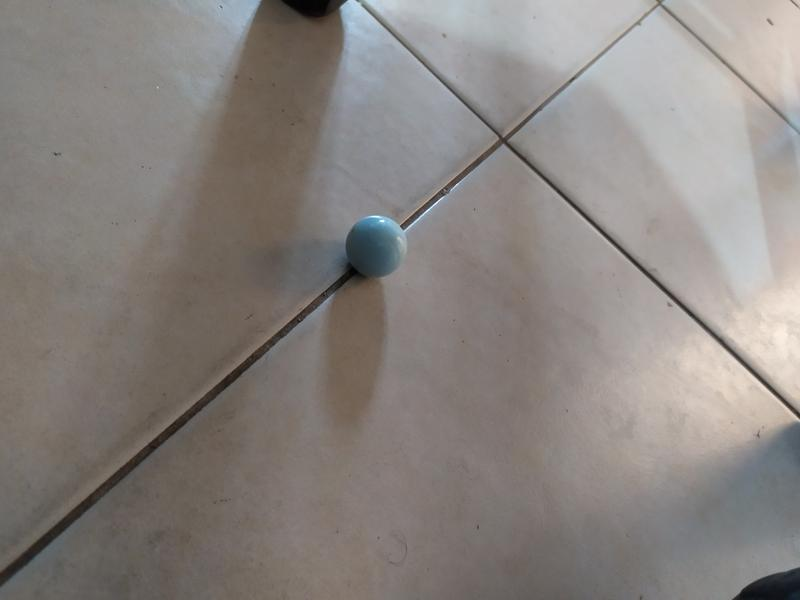Warning: (344, 213, 411, 280)
